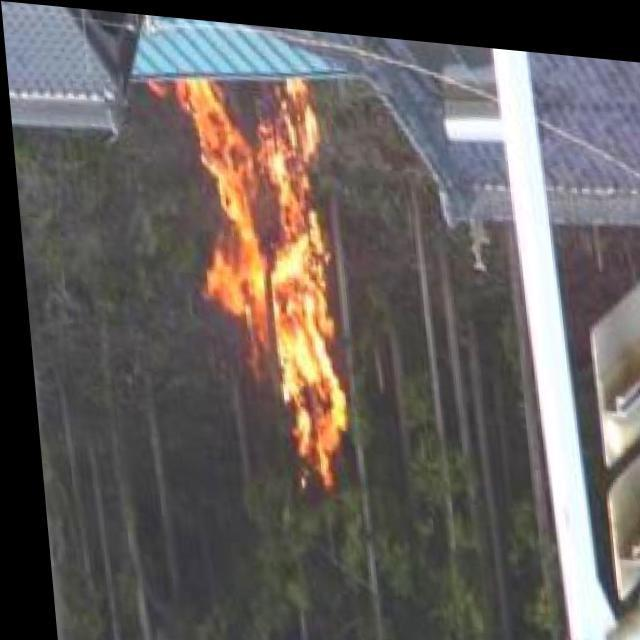fire: (191, 61, 357, 469)
